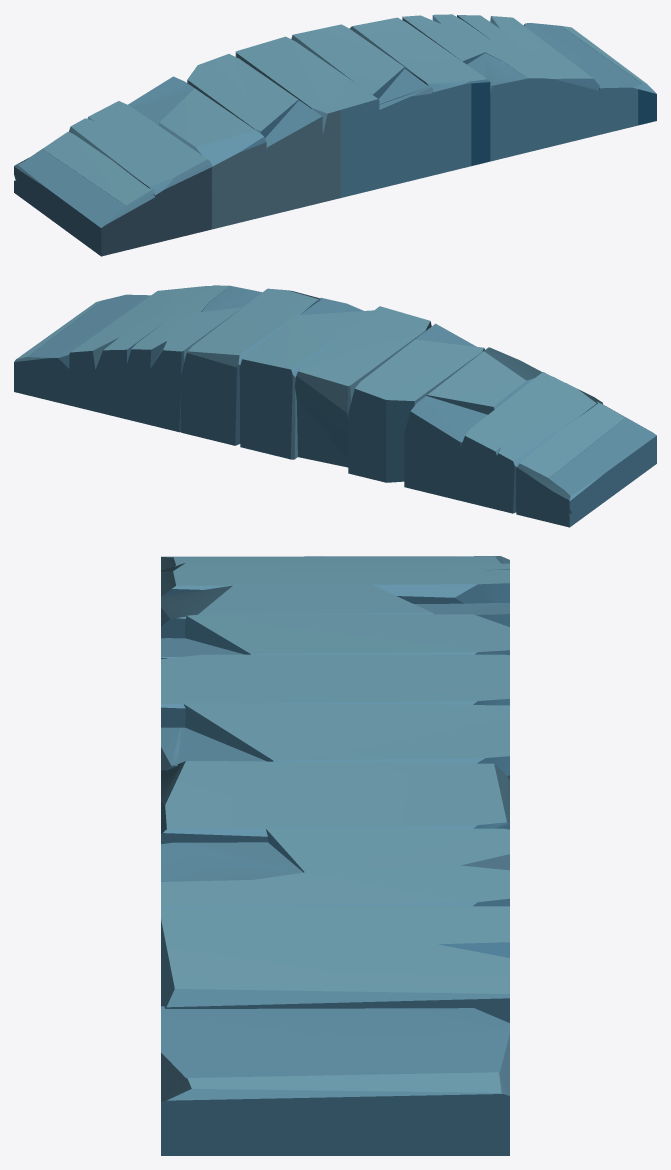
The model's file is Bridge.FBX.
3 renders of one model, top to bottom at view 1: azimuth 30°, elevation 25°; view 2: azimuth 150°, elevation 25°; view 3: azimuth 270°, elevation 25°, orthographic. The views are drawn at different scales.
Visible parts, largest first — view 1: Bridge; view 2: Bridge; view 3: Bridge.
Part boxes in pixels (left/top/right/bottom): Bridge: left=14, top=14, right=656, bottom=256; Bridge: left=14, top=285, right=656, bottom=527; Bridge: left=161, top=556, right=509, bottom=1155.
Size of the model in its own units: 1992 by 308 by 541.
